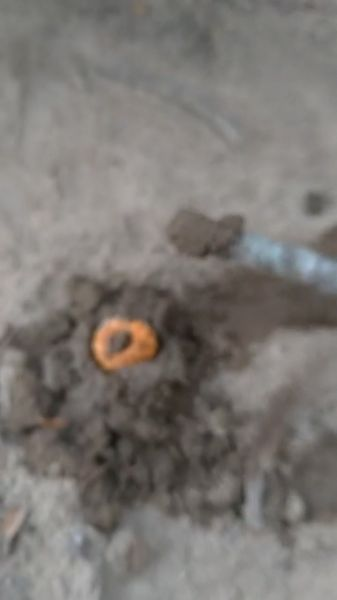eggs: (89, 316, 166, 374)
